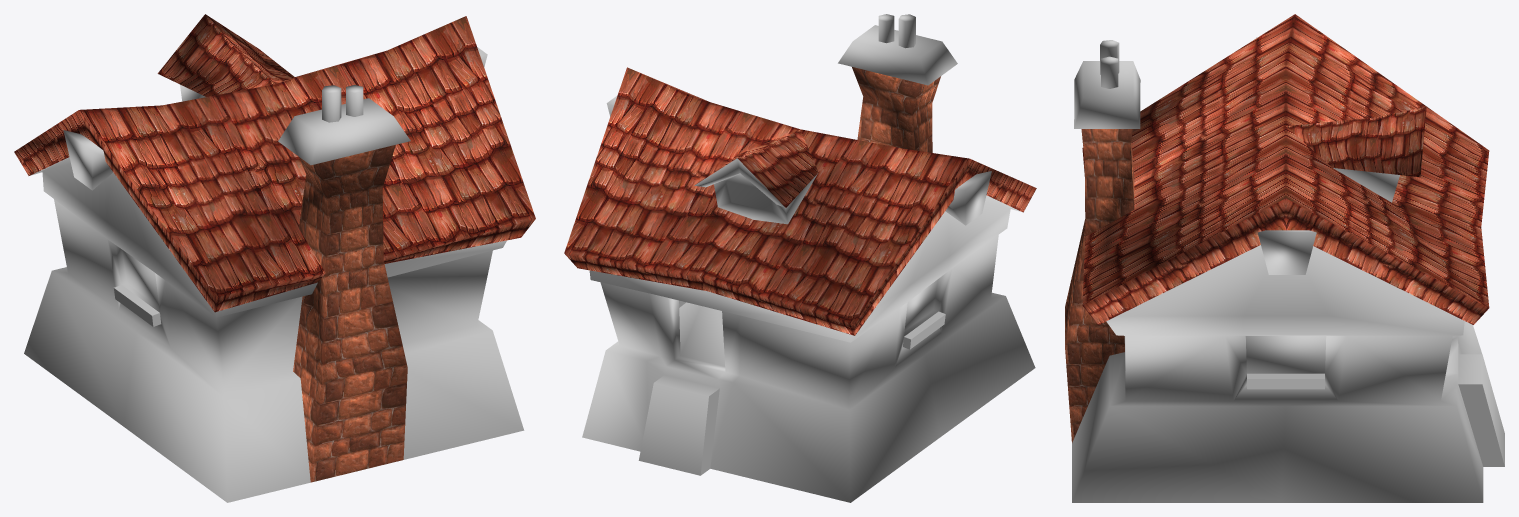
Rendered from redridge_human_farm.obj.
3 renders of one model, left to right at view 1: azimuth 30°, elevation 25°; view 2: azimuth 150°, elevation 25°; view 3: azimuth 270°, elevation 25°, orthographic. The views are drawn at different scales.
Parts seen in each view (by area): view 1: exterior; view 2: exterior, interior; view 3: exterior.
Boxes of the visible parts, x1=… form: exterior: x1=14, y1=14, x2=535, y2=502; exterior: x1=564, y1=14, x2=1036, y2=502; interior: x1=679, y1=300, x2=724, y2=366; exterior: x1=1065, y1=14, x2=1504, y2=502.
Bounding box in the file's own units: 18.87 × 16.88 × 18.02.
